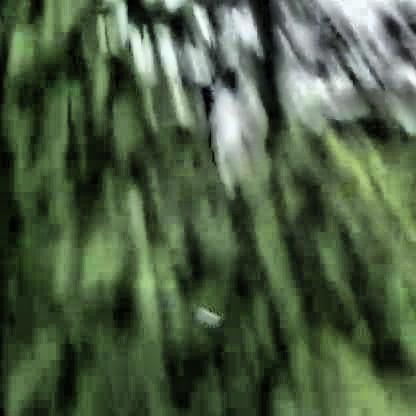golfball: (195, 309, 219, 327)
